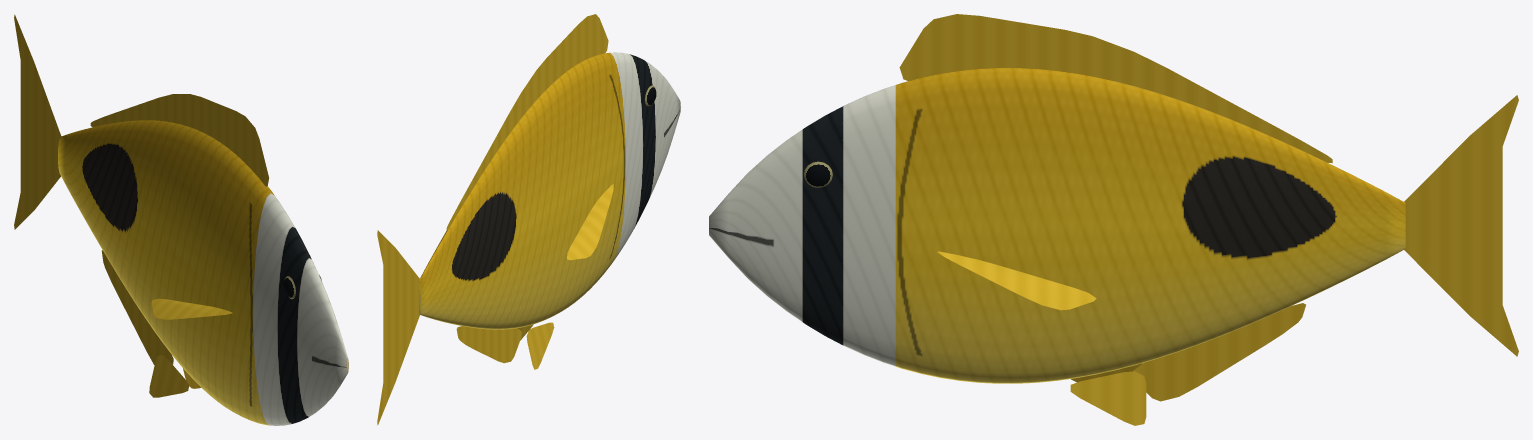
Rendered from butterflyfish.glb.
3 views of the same model, side by side, from view 1: azimuth 30°, elevation 25°; view 2: azimuth 150°, elevation 25°; view 3: azimuth 270°, elevation 25° (orthographic). The views are drawn at different scales.
Parts seen in each view (by area): view 1: butterflyfish_lod0; view 2: butterflyfish_lod0; view 3: butterflyfish_lod0.
Part boxes in pixels (x1,y1,x2,y2): butterflyfish_lod0: (14,14,348,425); butterflyfish_lod0: (377,14,680,425); butterflyfish_lod0: (709,14,1518,425).
Size of what is drawn, in the model's own units: 0.021 by 0.071 by 0.13.
Materials: 1 (1 with a texture image).
